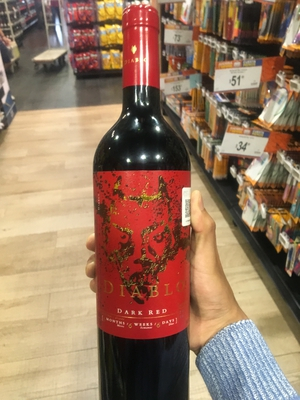diablo dark red: (86, 16, 197, 379)
